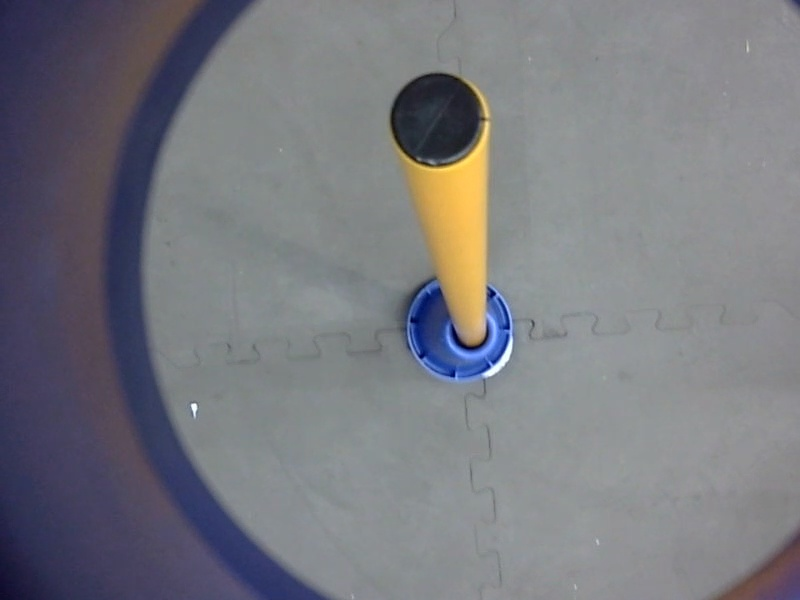tip: (381, 67, 496, 177)
